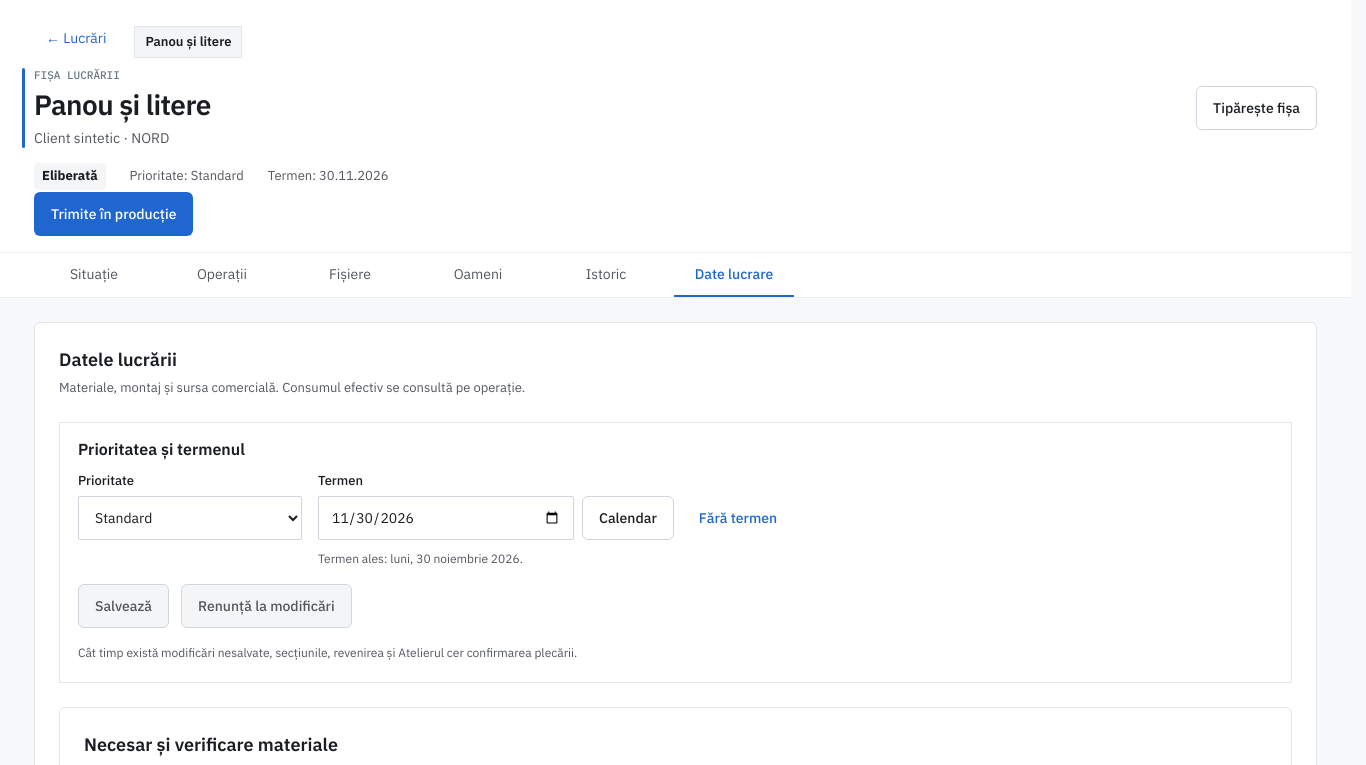
it: job deadline · calendar control (N-022) › "Renunță la modificări" brings back the saved deadline
Expected: the heading "Panou și litere" is shown, [34,87,211,124]
Type "2027-02-01" into the date field labelled "Termen". click: (446, 518)
box: [318,496,574,540]
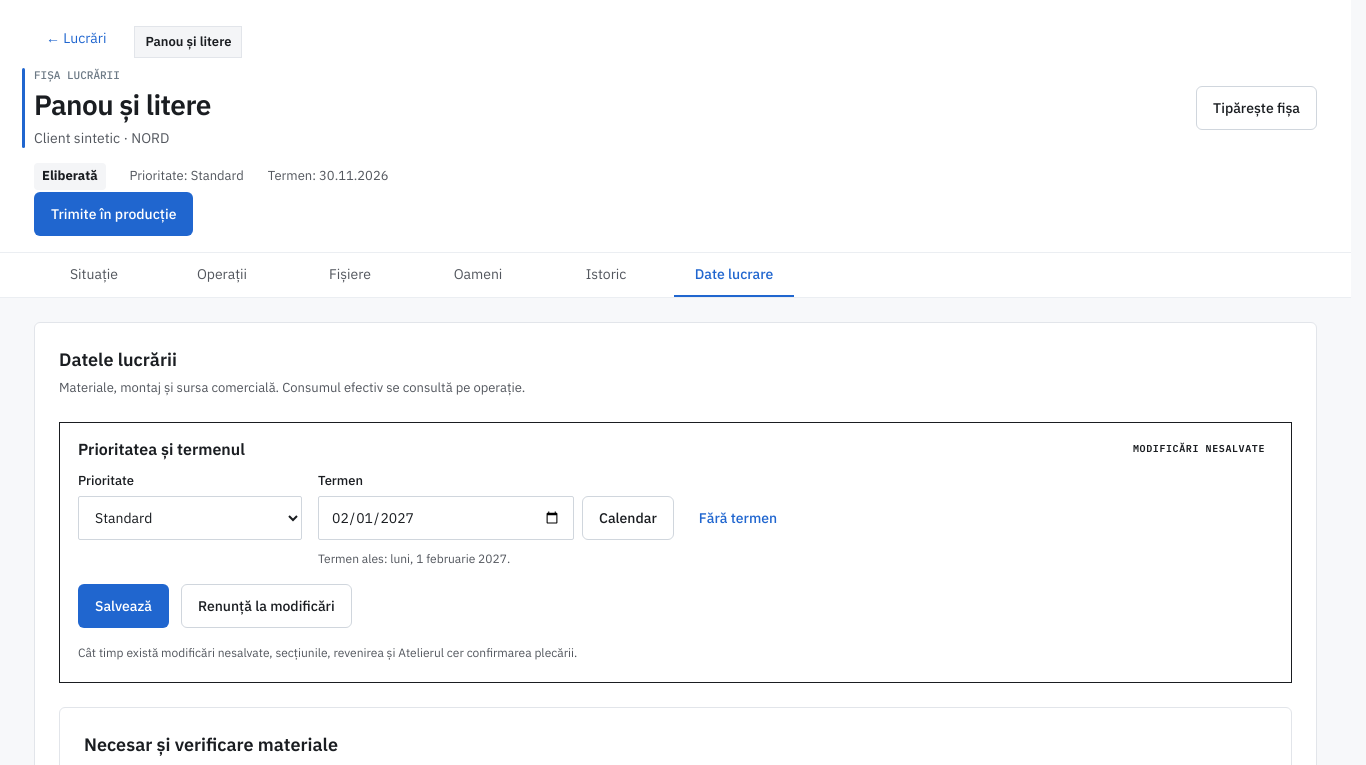
Click the button "Renunță la modificări". click: click(266, 606)
box: [181,584,352,628]
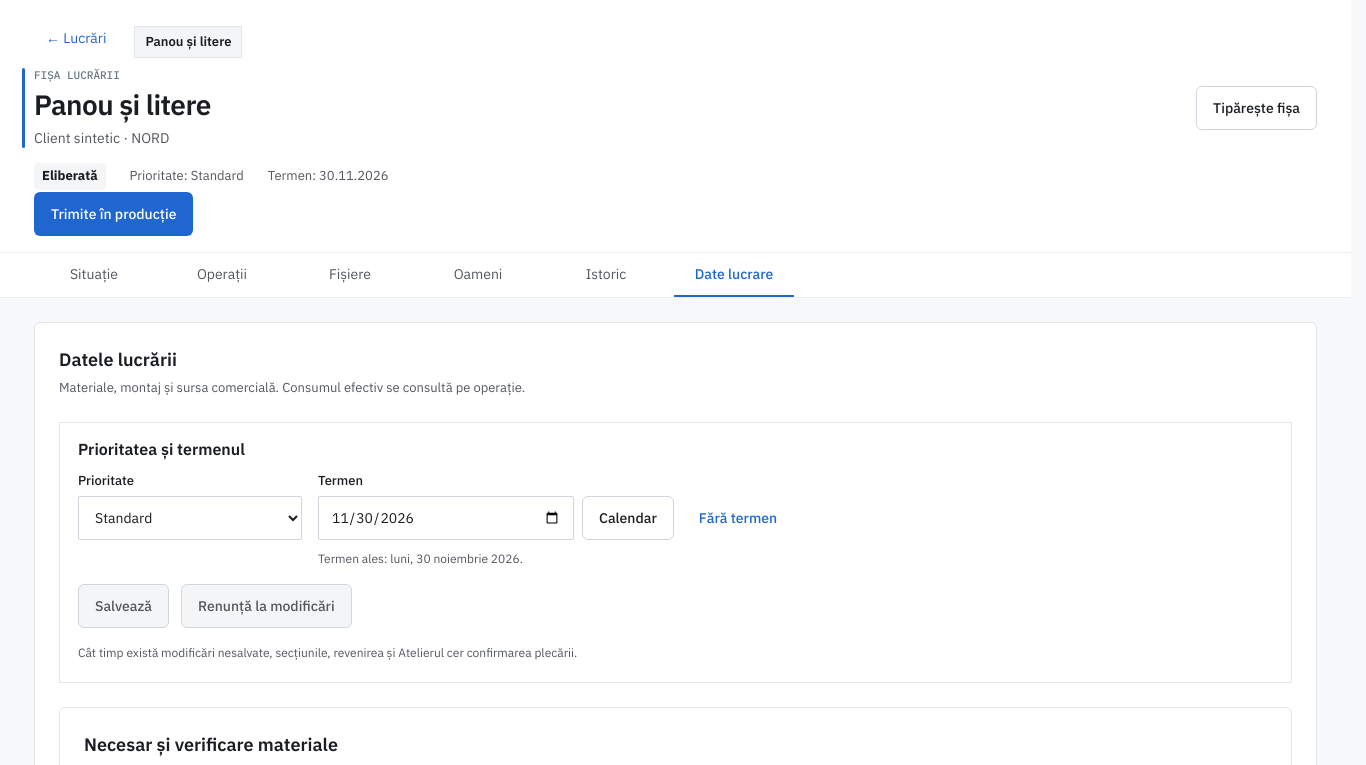
Expected: the date field labelled "Termen" holds "2026-11-30", [318,496,574,540]
